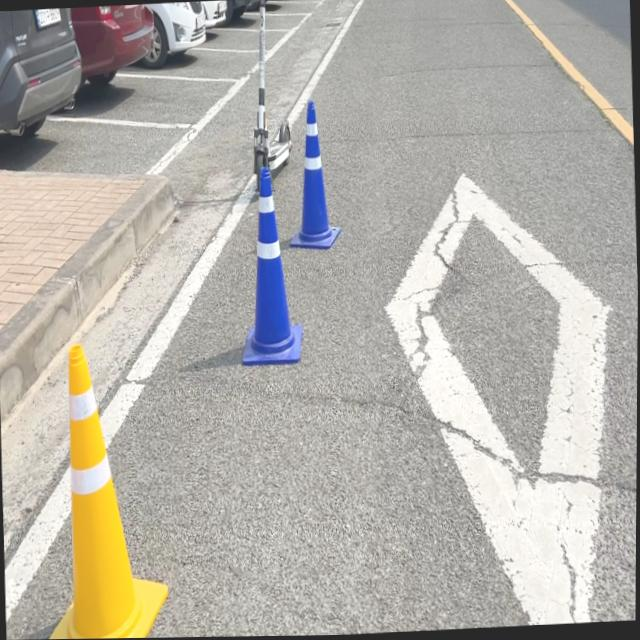b_rub: (243, 166, 302, 365), (290, 99, 341, 249)
y_rub: (49, 345, 168, 639)
